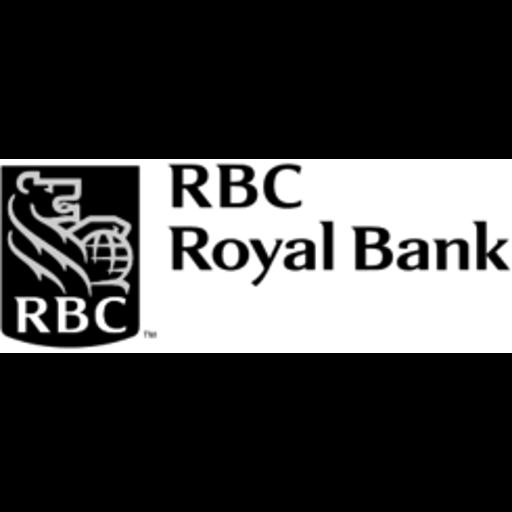RBC Royal Bank: (0, 159, 512, 353)
